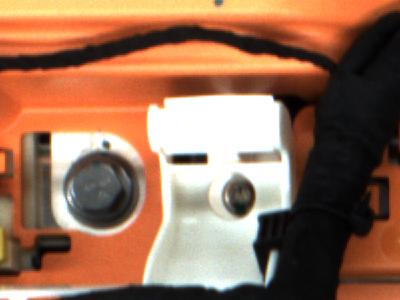nut_b: (52, 150, 146, 234)
screw_m: (216, 173, 267, 224)
